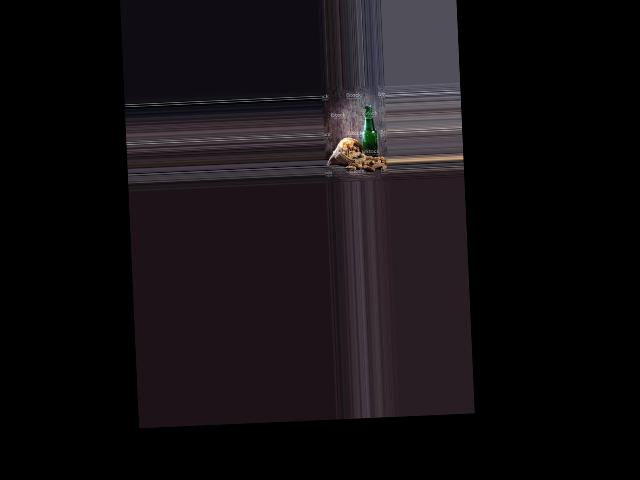beer: (360, 104, 378, 161)
